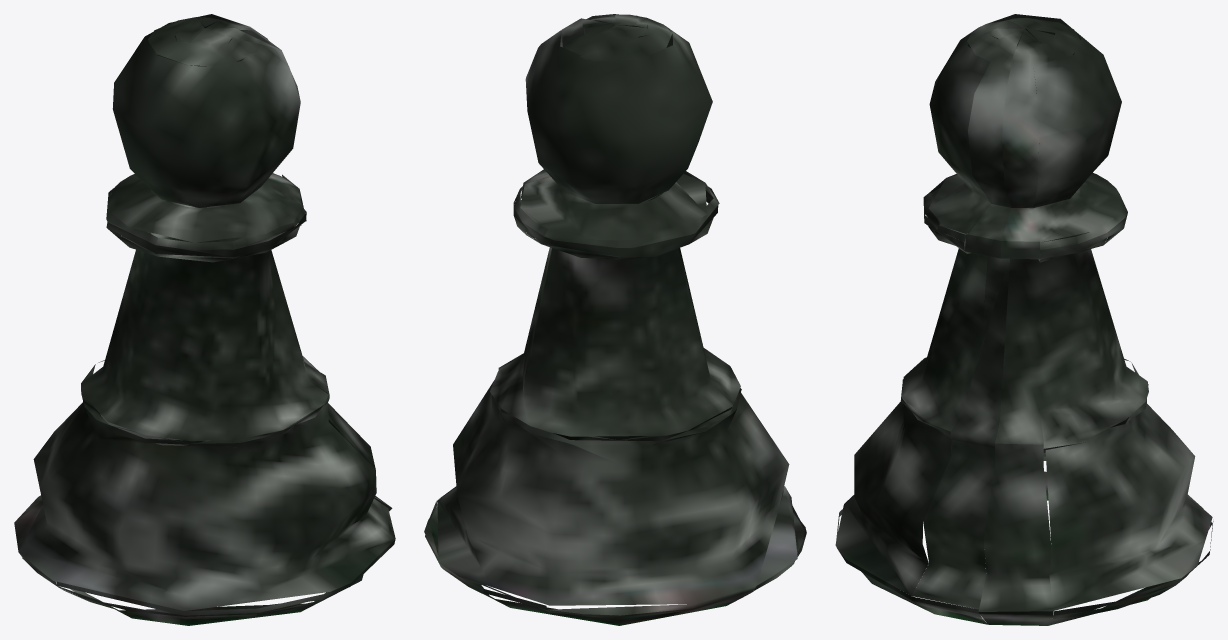
3 views of the same model, side by side, from view 1: azimuth 30°, elevation 25°; view 2: azimuth 150°, elevation 25°; view 3: azimuth 270°, elevation 25° (orthographic).
Visible parts, largest first — view 1: BP.006; view 2: BP.006; view 3: BP.006.
Boxes of the visible parts, x1,y1,x2,y2 form: BP.006: (14,14,395,625); BP.006: (424,14,806,625); BP.006: (835,14,1213,625).
Size of the model in its own units: 0.0317 by 0.049 by 0.0314.
1 material, 1 textured.
